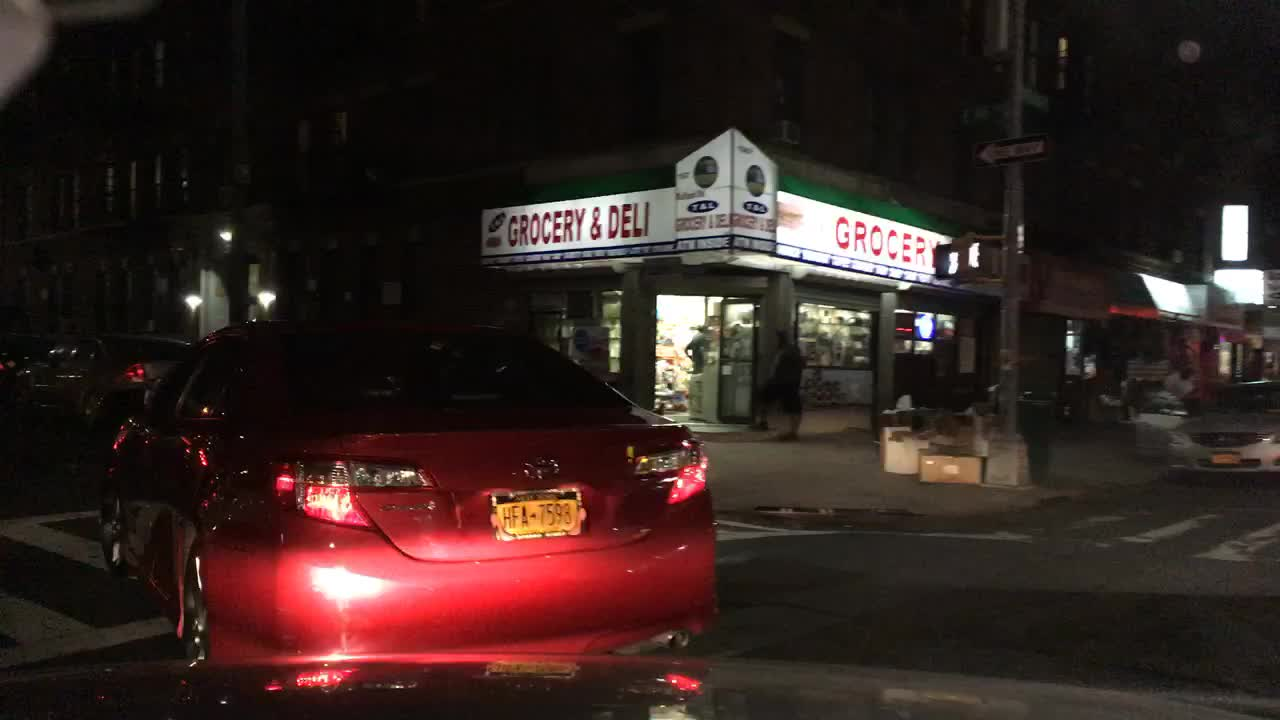car: (90, 312, 719, 657), (10, 329, 194, 424), (1159, 377, 1277, 484), (0, 350, 20, 414)
person: (751, 324, 808, 442)
traffic light: (951, 230, 1004, 282), (931, 242, 960, 280)
traffic sign: (968, 128, 1056, 172), (956, 102, 1003, 125), (1018, 84, 1051, 115)
